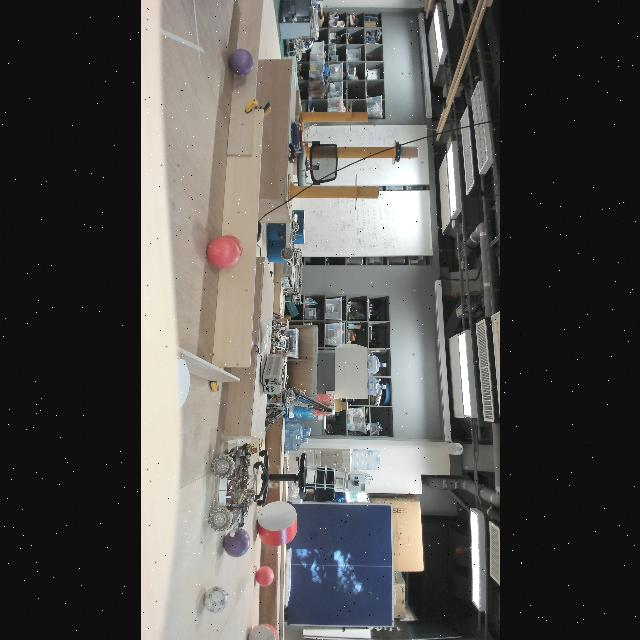P: (227, 48, 255, 78), (222, 528, 250, 558)
R: (206, 236, 240, 270), (215, 235, 242, 262), (254, 565, 274, 587)
S: (304, 464, 346, 492)
